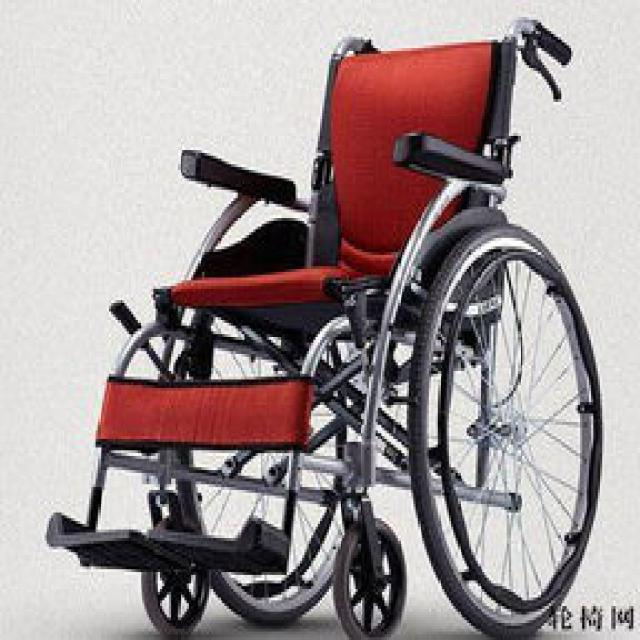wheelchair: (46, 11, 604, 637)
